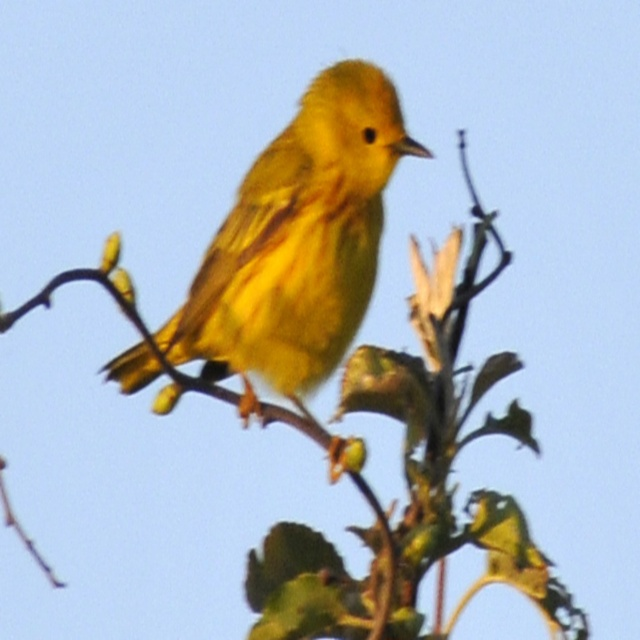Canary: (93, 58, 436, 487)
